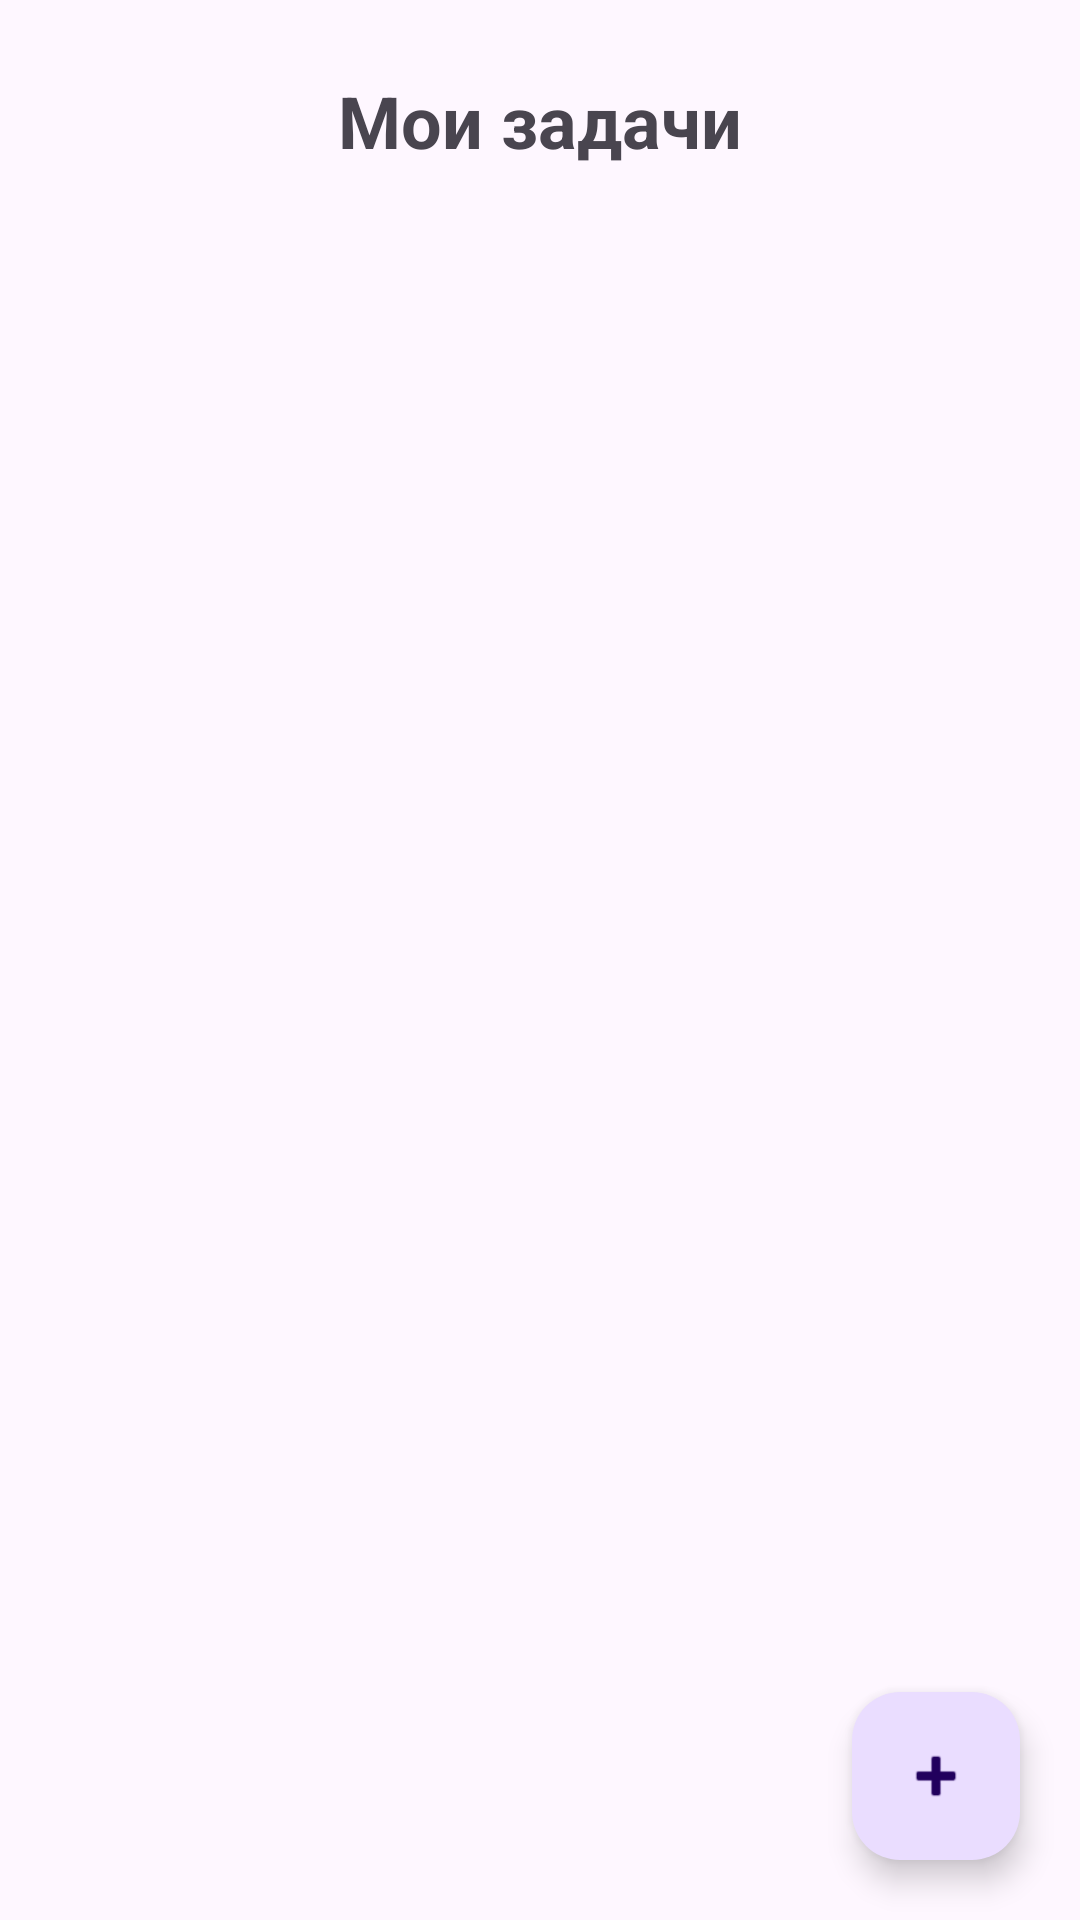

Icons on this 1080 x 1920 Android screen, each with its box as rect(x1, y1, x2, y2):
Добавить задачу: rect(852, 1692, 1020, 1860)
